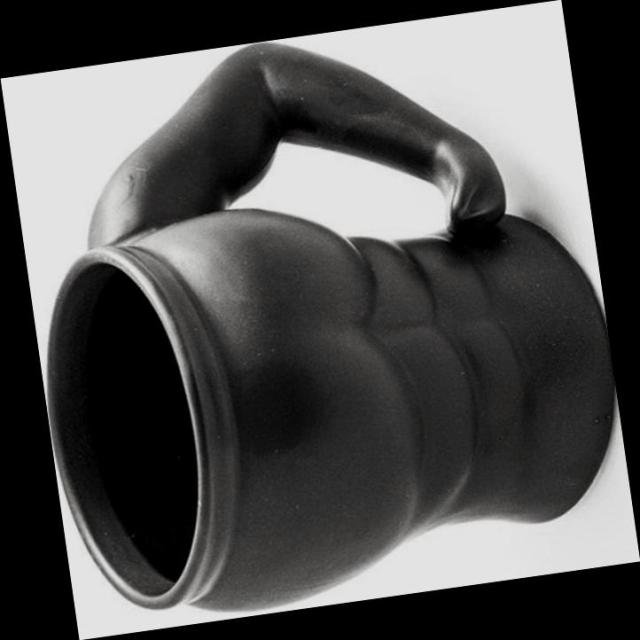cup: (5, 82, 636, 617)
